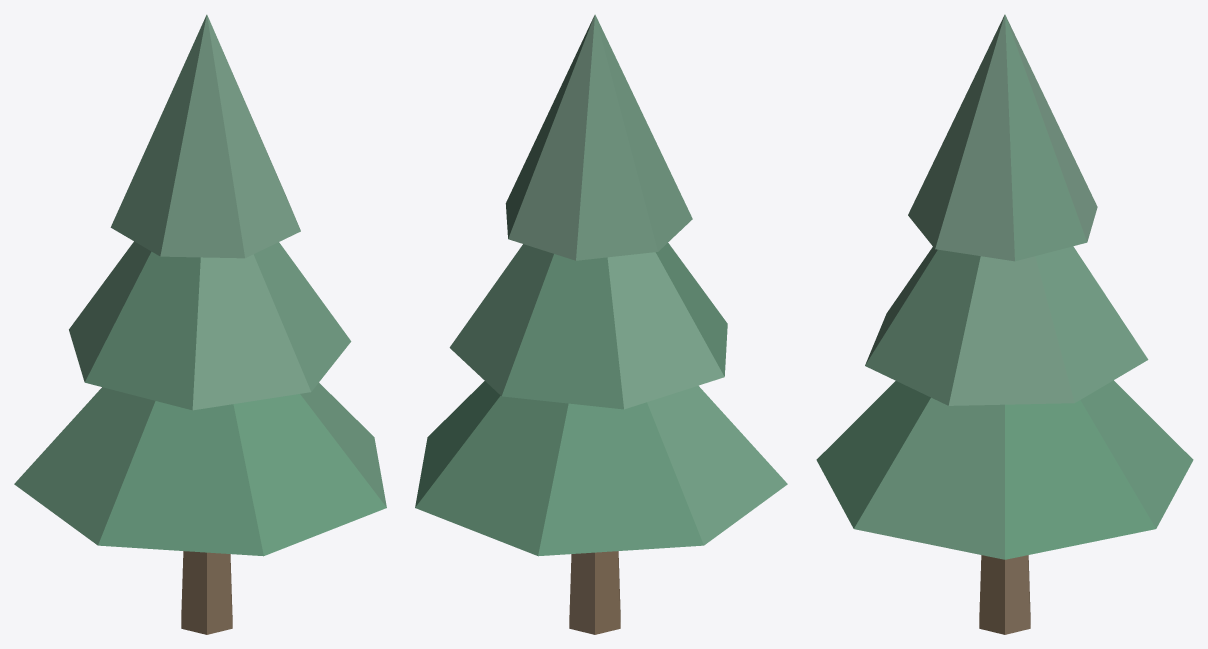
Rendered from pine.glb.
The picture shows the model from 3 angles, left to right: view 1: azimuth 30°, elevation 25°; view 2: azimuth 150°, elevation 25°; view 3: azimuth 270°, elevation 25°; orthographic projection.
Visible parts, largest first — view 1: pine2; view 2: pine2; view 3: pine2.
Part boxes in pixels (x1=…): pine2: x1=14, y1=14, x2=386, y2=634; pine2: x1=415, y1=14, x2=787, y2=634; pine2: x1=816, y1=14, x2=1193, y2=634.
Size of the model in its own units: 3.23 by 5.9 by 3.31.
